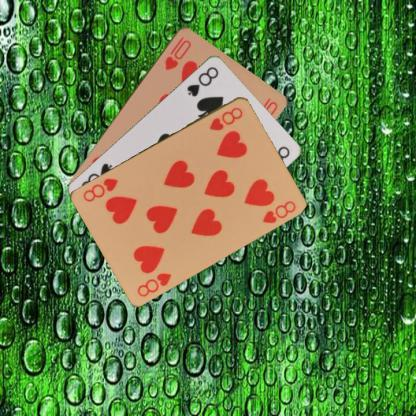10h: (162, 34, 192, 72)
8h: (134, 270, 172, 298), (207, 104, 244, 132)
8s: (184, 64, 220, 98)
